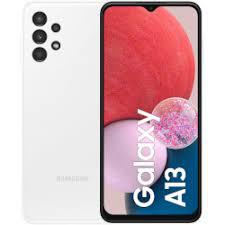Smartphone: (100, 4, 202, 223), (26, 3, 102, 225)
